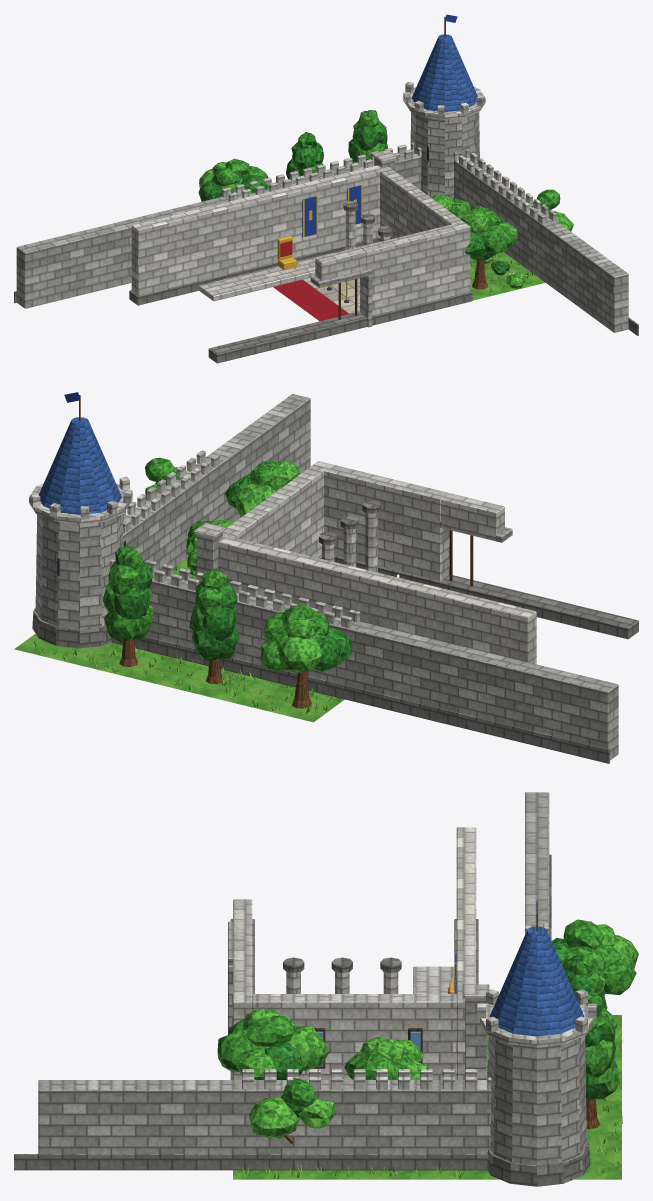
The model's file is chunk_2_0.glb.
The picture shows the model from 3 angles, top to bottom: view 1: azimuth 30°, elevation 25°; view 2: azimuth 150°, elevation 25°; view 3: azimuth 270°, elevation 25°; orthographic projection. The views are drawn at different scales.
Parts seen in each view (by area): view 1: chunk_2_0; view 2: chunk_2_0; view 3: chunk_2_0.
Boxes of the visible parts, x1,y1,x2,y2 form: chunk_2_0: (14,14,638,363); chunk_2_0: (14,392,638,763); chunk_2_0: (14,792,638,1186).
Bounding box in the file's own units: 30.95 × 12.12 × 25.69.
Materials: 30 (16 with a texture image).
